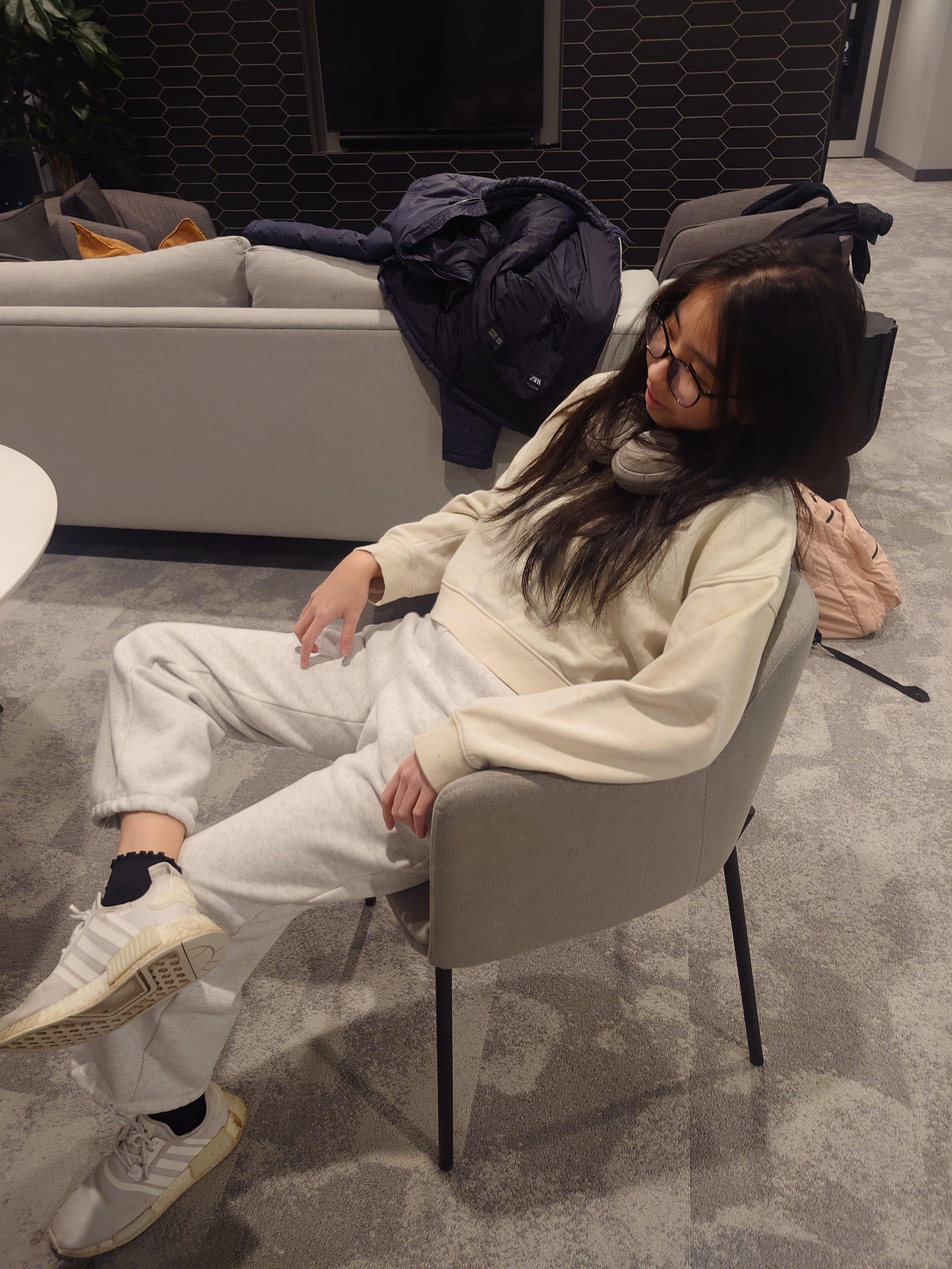BadPosture: (0, 238, 860, 1261)
